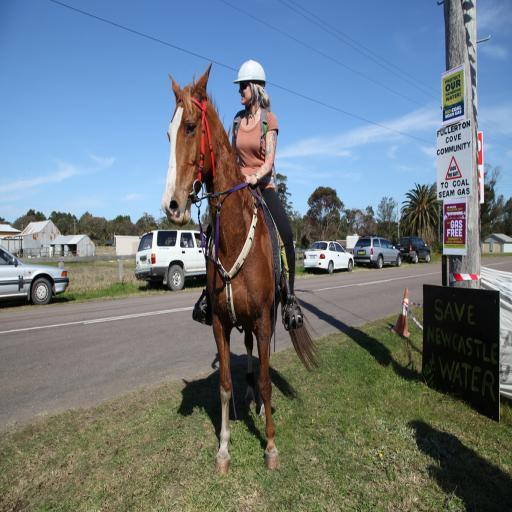horse: (160, 64, 320, 480)
